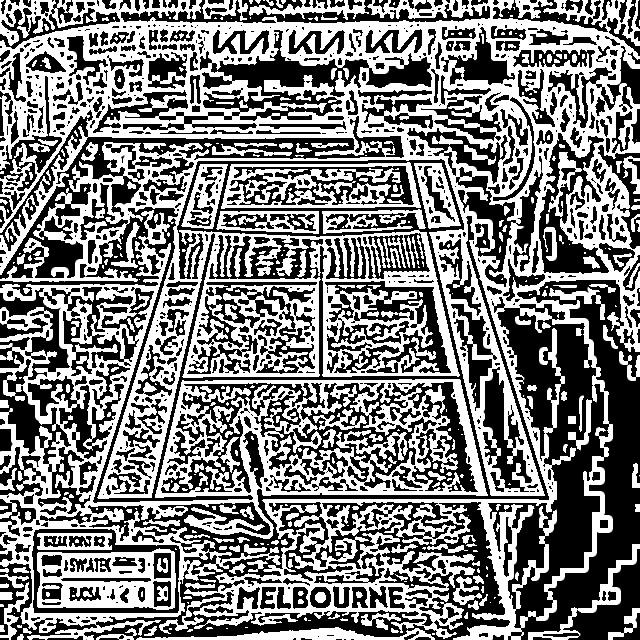left side: (94, 162, 230, 502), (412, 161, 549, 498)
player: (235, 414, 278, 540), (343, 89, 362, 154)
